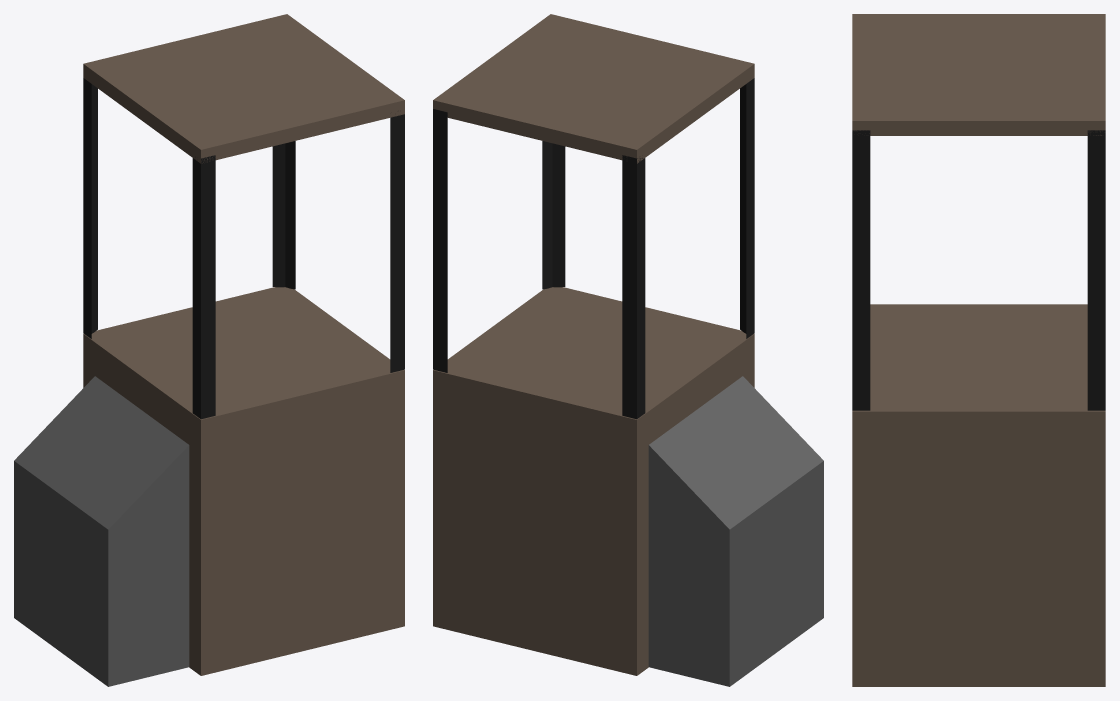
Rendered from stand.glb.
3 renders of one model, left to right at view 1: azimuth 30°, elevation 25°; view 2: azimuth 150°, elevation 25°; view 3: azimuth 270°, elevation 25°, orthographic. The views are drawn at different scales.
Parts seen in each view (by area): view 1: Stand; view 2: Stand; view 3: Stand.
Boxes of the visible parts, x1,y1,x2,y2 form: Stand: (14, 14, 404, 686); Stand: (433, 14, 823, 686); Stand: (852, 14, 1105, 686).
Size of the model in its own units: 1.96 by 3.45 by 1.4.
